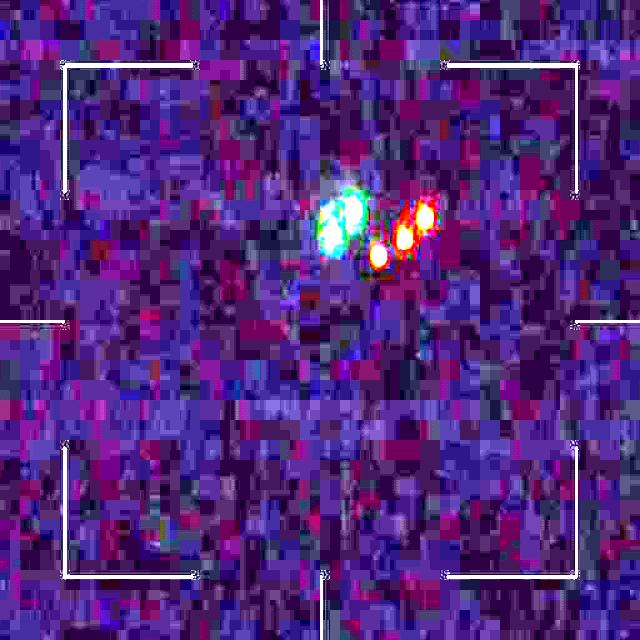bird: (321, 194, 434, 269)
